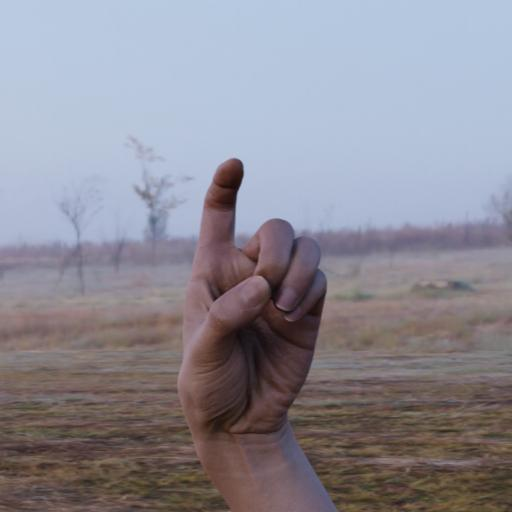X: (164, 127, 346, 469)
